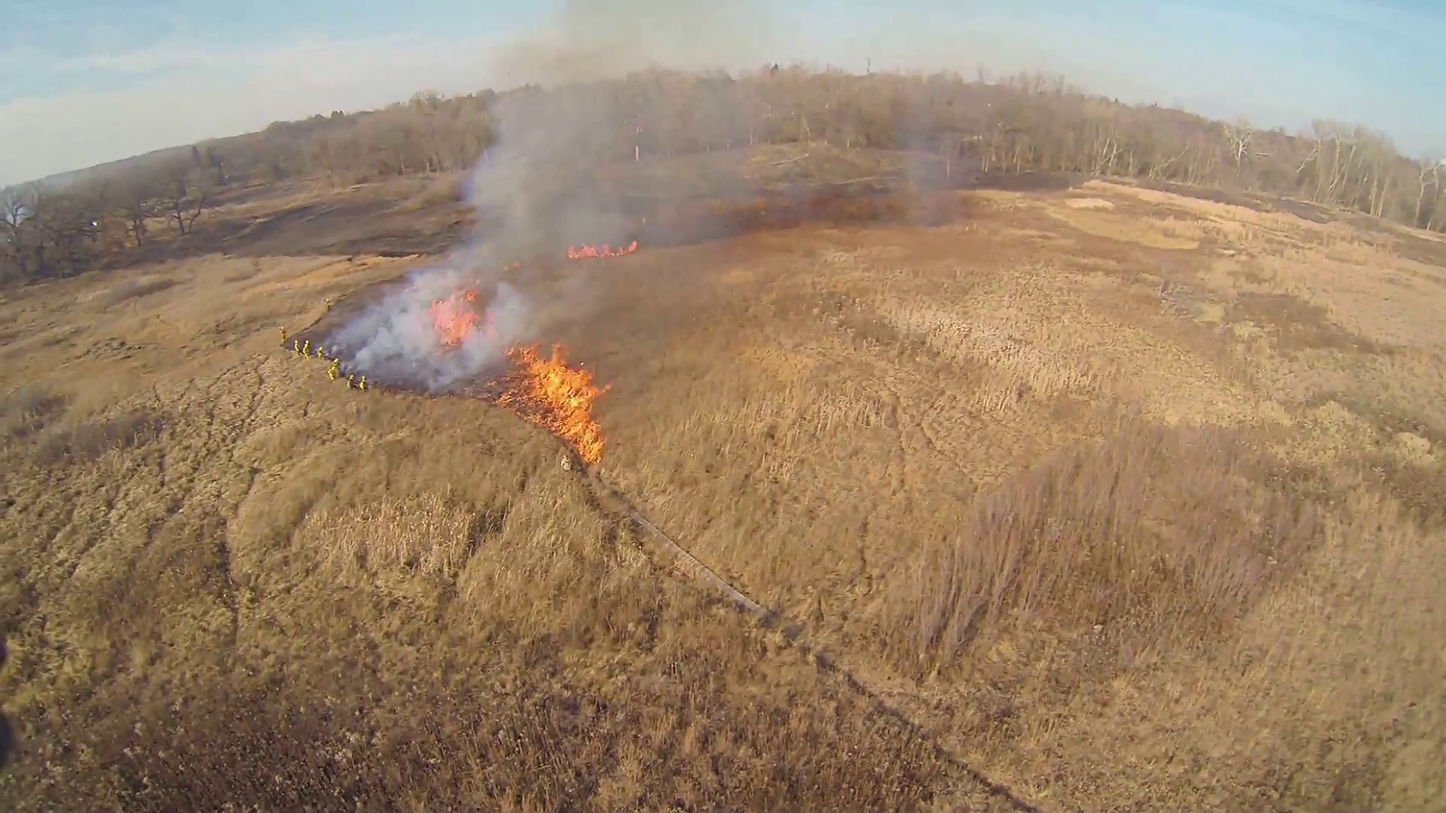forest_fire: (486, 343, 609, 464), (428, 290, 495, 349), (565, 240, 638, 259)
